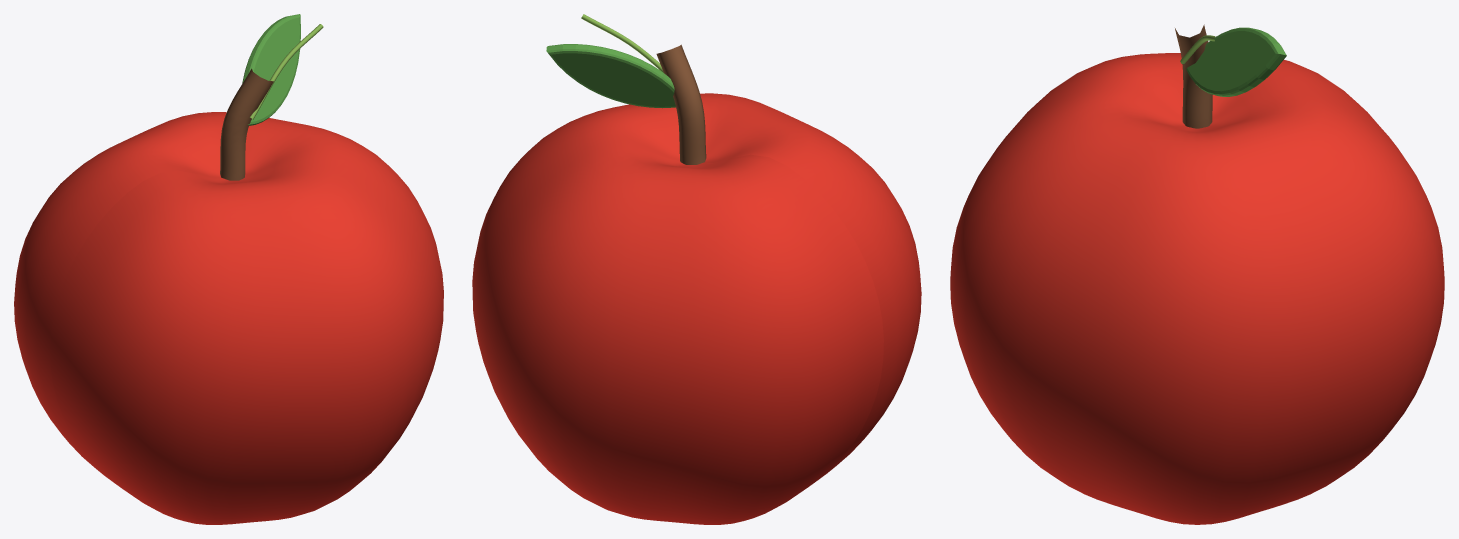
File: apple.glb
3 renders of one model, left to right at view 1: azimuth 30°, elevation 25°; view 2: azimuth 150°, elevation 25°; view 3: azimuth 270°, elevation 25°, orthographic. The views are drawn at different scales.
Visible parts, largest first — view 1: Apple skin · cherry red, Leaf green, Warm wooden stem, Fresh leaf green; view 2: Apple skin · cherry red, Leaf green, Warm wooden stem, Fresh leaf green; view 3: Apple skin · cherry red, Leaf green, Warm wooden stem.
Boxes of the visible parts, bbox=[...] form: Apple skin · cherry red: bbox=[14, 112, 443, 524]; Leaf green: bbox=[242, 14, 300, 125]; Warm wooden stem: bbox=[220, 68, 273, 180]; Fresh leaf green: bbox=[250, 24, 323, 119]; Apple skin · cherry red: bbox=[472, 93, 921, 524]; Leaf green: bbox=[546, 44, 675, 108]; Warm wooden stem: bbox=[656, 44, 706, 164]; Fresh leaf green: bbox=[581, 14, 663, 72]; Apple skin · cherry red: bbox=[950, 53, 1444, 524]; Leaf green: bbox=[1185, 27, 1286, 96]; Warm wooden stem: bbox=[1175, 24, 1212, 128].
Size of the model in its own units: 0.0838 by 0.0951 by 0.0841.
